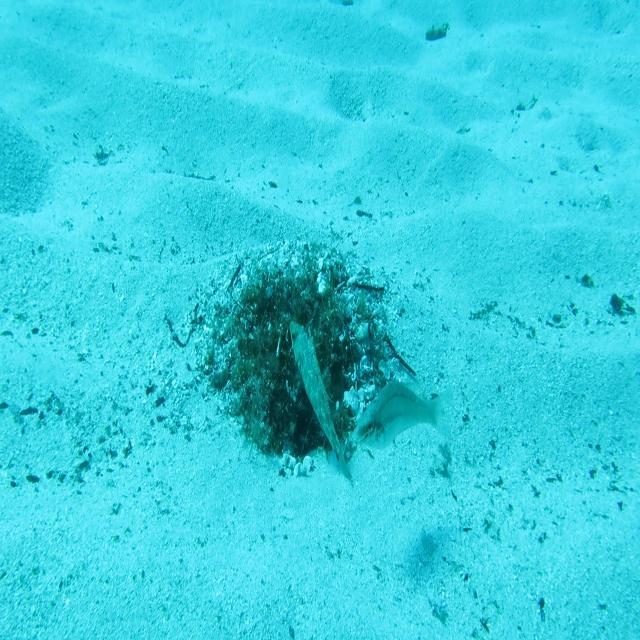FAN: (287, 316, 355, 488)
core_nest: (271, 292, 321, 326)
female: (352, 370, 456, 454)
nest: (186, 235, 408, 487)
vegetation: (425, 22, 449, 45)
